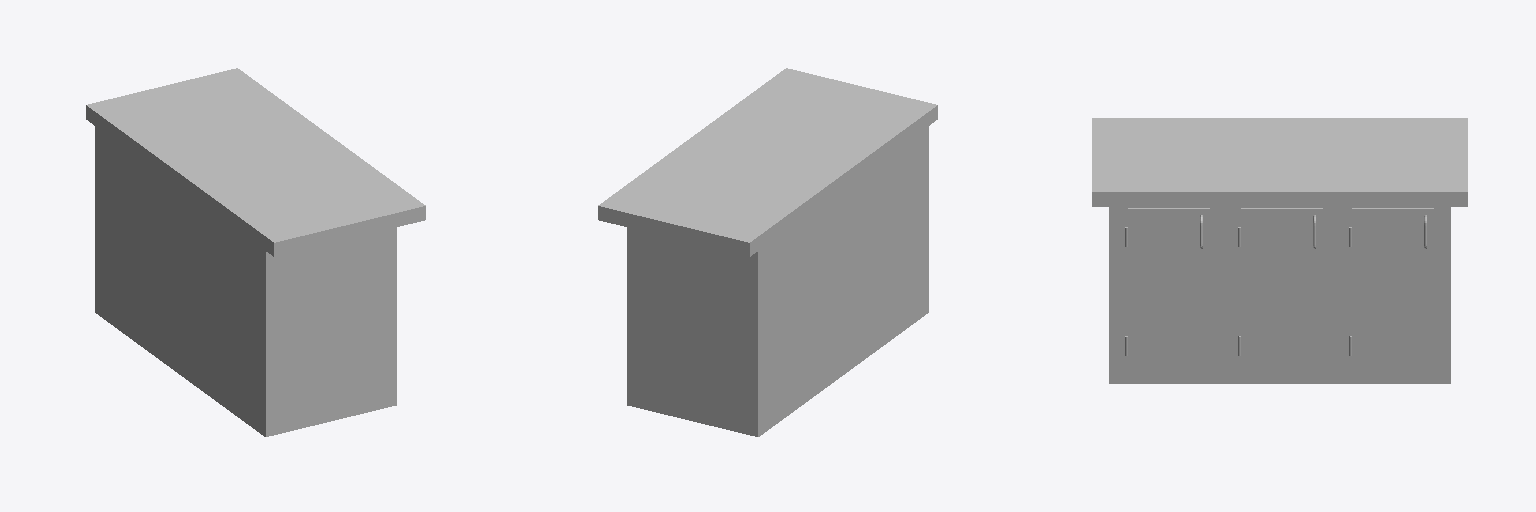
File: LowerCabinets.obj
The picture shows the model from 3 angles: view 1: azimuth 30°, elevation 25°; view 2: azimuth 150°, elevation 25°; view 3: azimuth 270°, elevation 25°; orthographic projection.
Visible parts, largest first — view 1: LowerCabinets pCube8, LowerCabinets pCube7; view 2: LowerCabinets pCube8, LowerCabinets pCube7; view 3: LowerCabinets pCube7, LowerCabinets pCube8, polySurface10 LowerCabinets, LowerCabinets polySurface5, LowerCabinets polySurface9.
Boxes of the visible parts, x1=… form: LowerCabinets pCube8: x1=95, y1=126, x2=396, y2=436; LowerCabinets pCube7: x1=86, y1=68, x2=425, y2=256; LowerCabinets pCube8: x1=627, y1=126, x2=928, y2=436; LowerCabinets pCube7: x1=598, y1=68, x2=937, y2=256; LowerCabinets pCube7: x1=1092, y1=118, x2=1467, y2=206; LowerCabinets pCube8: x1=1109, y1=207, x2=1450, y2=383; polySurface10 LowerCabinets: x1=1349, y1=208, x2=1433, y2=376; LowerCabinets polySurface5: x1=1125, y1=208, x2=1209, y2=376; LowerCabinets polySurface9: x1=1238, y1=208, x2=1322, y2=376.
Bounding box in the file's own units: 2.99 × 3.78 × 6.42.